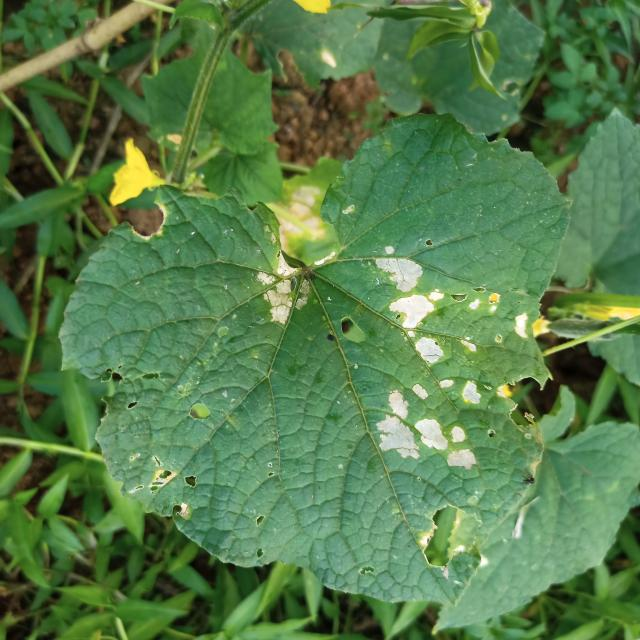disease_cucumber: (366, 239, 539, 370), (351, 373, 491, 489), (246, 240, 316, 339)
